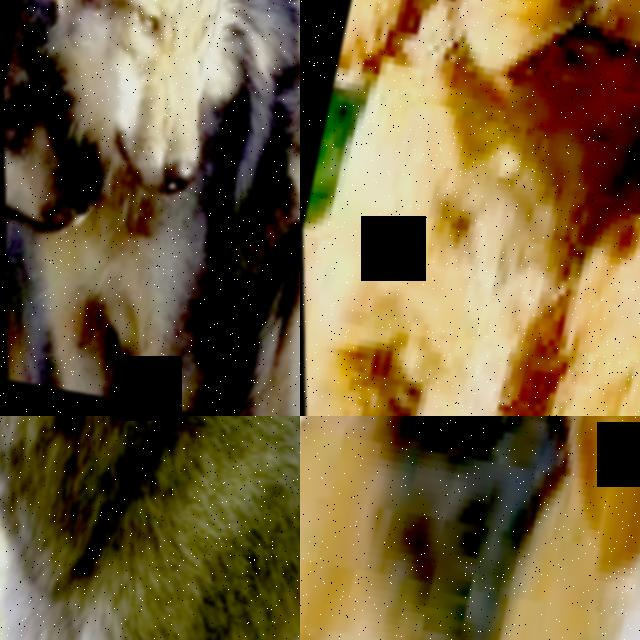dog: (300, 0, 640, 416), (430, 4, 640, 416), (300, 416, 640, 640)
wolf: (4, 0, 300, 416), (0, 416, 300, 640), (0, 0, 140, 382), (203, 0, 300, 416)
